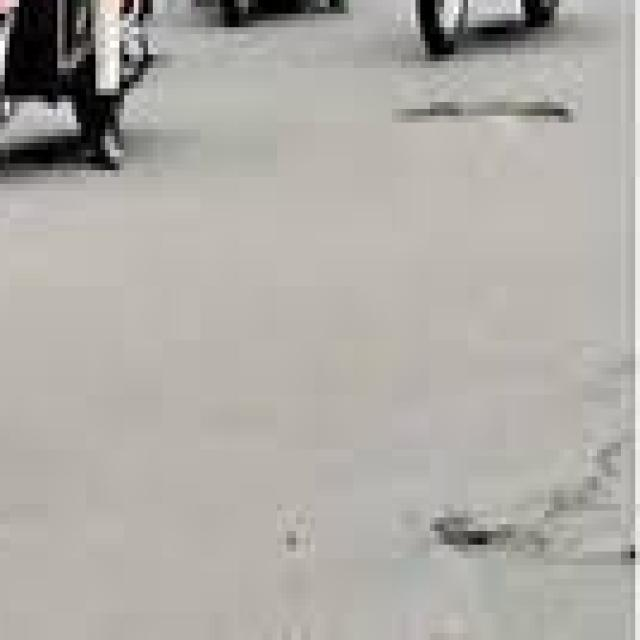bike: (0, 0, 181, 177), (397, 0, 592, 48), (186, 0, 362, 20)
